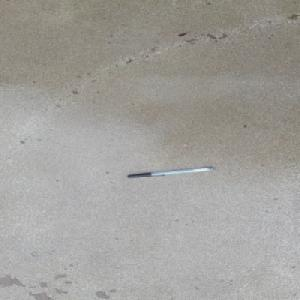Pen: (126, 166, 214, 178)
